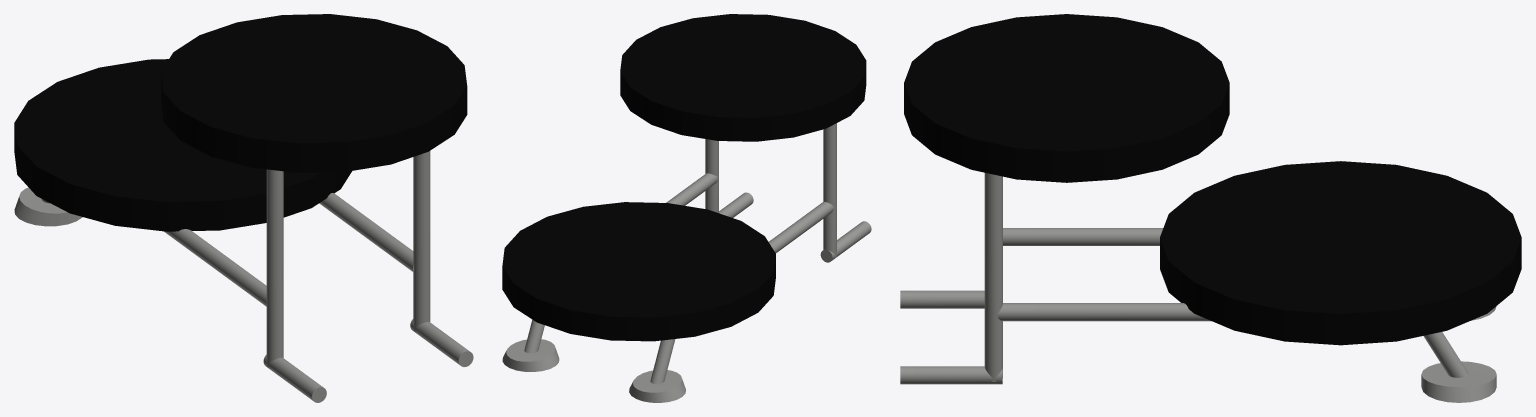
The model's file is TwoStand.fbx.
3 renders of one model, left to right at view 1: azimuth 30°, elevation 25°; view 2: azimuth 150°, elevation 25°; view 3: azimuth 270°, elevation 25°, orthographic. The views are drawn at different scales.
Visible parts, largest first — view 1: pCylinder15, pCylinder5, pCylinder9, pCylinder18, pCylinder7, pCylinder17, pCylinder4, pCylinder12, pCylinder10; view 2: pCylinder5, pCylinder15, pCylinder9, pCylinder6, pCylinder4, pCylinder7, pCylinder18, pCylinder10, pCylinder17, pCylinder1, pCylinder12, pCylinder2; view 3: pCylinder5, pCylinder15, pCylinder18, pCylinder17, pCylinder7, pCylinder6, pCylinder12, pCylinder10, pCylinder2.
Boxes of the visible parts, x1,y1,x2,y2 form: pCylinder15: (161,14,467,172); pCylinder5: (14,59,351,231); pCylinder9: (266,169,283,367); pCylinder18: (413,151,430,331); pCylinder7: (164,229,266,306); pCylinder17: (319,193,413,271); pCylinder4: (14,187,82,226); pCylinder12: (410,319,473,366); pCylinder10: (263,354,326,402); pCylinder5: (502,202,775,341); pCylinder15: (620,14,866,141); pCylinder9: (823,123,836,258); pCylinder6: (502,339,559,371); pCylinder4: (629,370,685,402); pCylinder7: (768,201,833,253); pCylinder18: (705,139,718,212); pCylinder10: (820,221,871,262); pCylinder17: (666,173,717,205); pCylinder1: (650,339,675,383); pCylinder12: (719,192,753,217); pCylinder2: (524,319,544,353); pCylinder5: (1160,161,1521,345); pCylinder15: (904,14,1229,182); pCylinder18: (984,173,1002,381); pCylinder17: (997,303,1211,321); pCylinder7: (1003,228,1163,245); pCylinder6: (1421,361,1496,402); pCylinder12: (900,366,1002,384); pCylinder10: (900,290,984,308); pCylinder2: (1423,332,1468,377).
Bounding box in the file's own units: 11.44 × 9.19 × 19.65.
2 materials, 1 textured.
